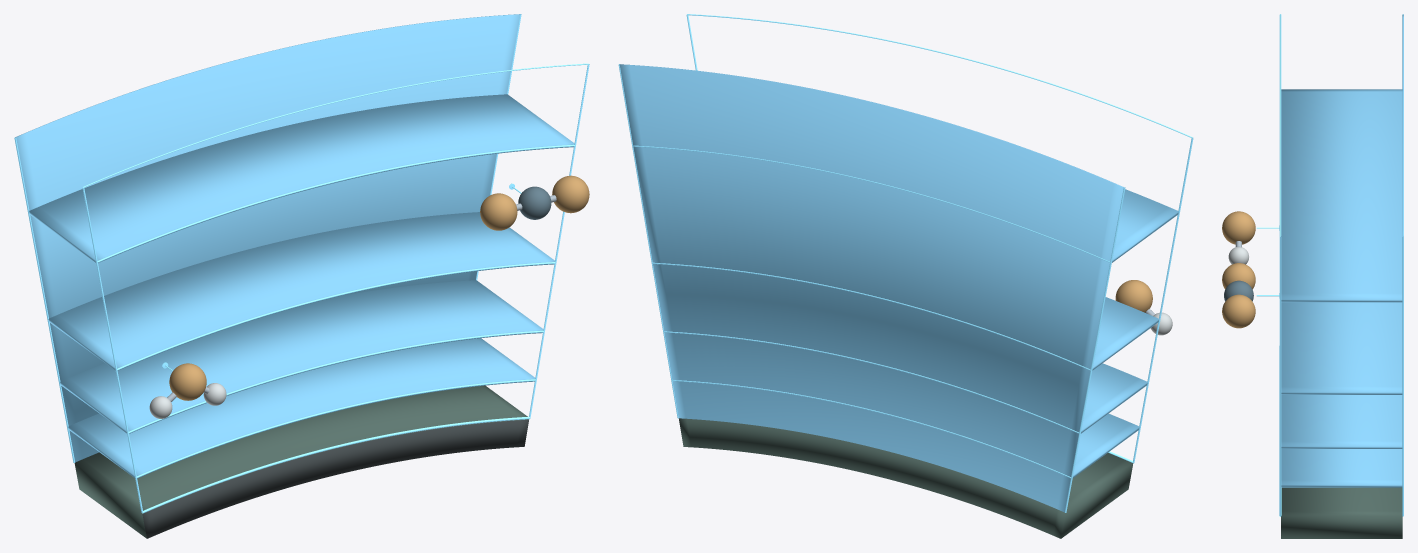
The model's file is atmosphere.glb.
The picture shows the model from 3 angles, left to right: view 1: azimuth 30°, elevation 25°; view 2: azimuth 150°, elevation 25°; view 3: azimuth 270°, elevation 25°; orthographic projection. The views are drawn at different scales.
Parts seen in each view (by area): view 1: AirColumn — Diagram air layers, AirColumn — Schematic ground, AirColumn — Schematic ground cut face, AirColumn — Atmospheric diagram outlines, CarbonDioxide — Molecule warm symbol, WaterVapor — Molecule warm symbol, CarbonDioxide — Molecule cool symbol, WaterVapor — Hydrogen pale symbol; view 2: AirColumn — Diagram air layers, AirColumn — Schematic ground, AirColumn — Atmospheric diagram outlines, WaterVapor — Molecule warm symbol; view 3: AirColumn — Diagram air layers, AirColumn — Schematic ground, AirColumn — Atmospheric diagram outlines, CarbonDioxide — Molecule warm symbol, WaterVapor — Molecule warm symbol, CarbonDioxide — Molecule cool symbol, WaterVapor — Hydrogen pale symbol.
Boxes of the visible parts, bbox=[...] form: AirColumn — Diagram air layers: bbox=[15, 14, 574, 478]; AirColumn — Schematic ground: bbox=[74, 385, 528, 538]; AirColumn — Schematic ground cut face: bbox=[142, 419, 528, 538]; AirColumn — Atmospheric diagram outlines: bbox=[14, 14, 589, 513]; CarbonDioxide — Molecule warm symbol: bbox=[480, 175, 589, 230]; WaterVapor — Molecule warm symbol: bbox=[169, 363, 206, 400]; CarbonDioxide — Molecule cool symbol: bbox=[518, 186, 551, 219]; WaterVapor — Hydrogen pale symbol: bbox=[149, 383, 226, 418]; AirColumn — Diagram air layers: bbox=[619, 64, 1178, 512]; AirColumn — Schematic ground: bbox=[678, 418, 1133, 538]; AirColumn — Atmospheric diagram outlines: bbox=[618, 14, 1193, 512]; WaterVapor — Molecule warm symbol: bbox=[1115, 280, 1152, 312]; AirColumn — Diagram air layers: bbox=[1281, 14, 1403, 487]; AirColumn — Schematic ground: bbox=[1281, 487, 1402, 538]; AirColumn — Atmospheric diagram outlines: bbox=[1279, 14, 1403, 516]; CarbonDioxide — Molecule warm symbol: bbox=[1222, 263, 1255, 328]; WaterVapor — Molecule warm symbol: bbox=[1222, 211, 1255, 244]; CarbonDioxide — Molecule cool symbol: bbox=[1224, 280, 1253, 301]; WaterVapor — Hydrogen pale symbol: bbox=[1228, 246, 1248, 264].
Size of the model in its own units: 5.63 by 4.16 by 1.94.
